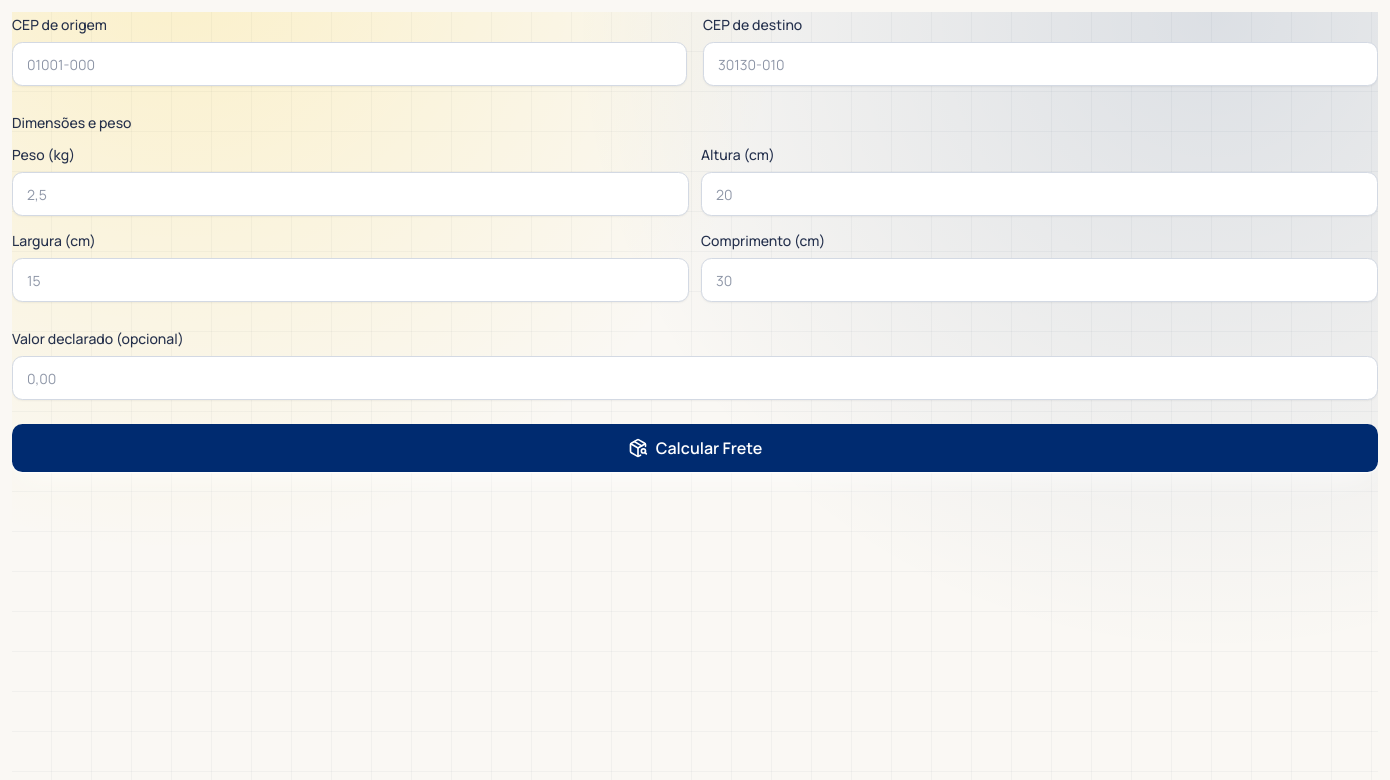
Test: FreightForm › masks the zip code as the user types
In the field labelled "CEP de origem": point(350, 64) [12,42,687,86], type "01001000"
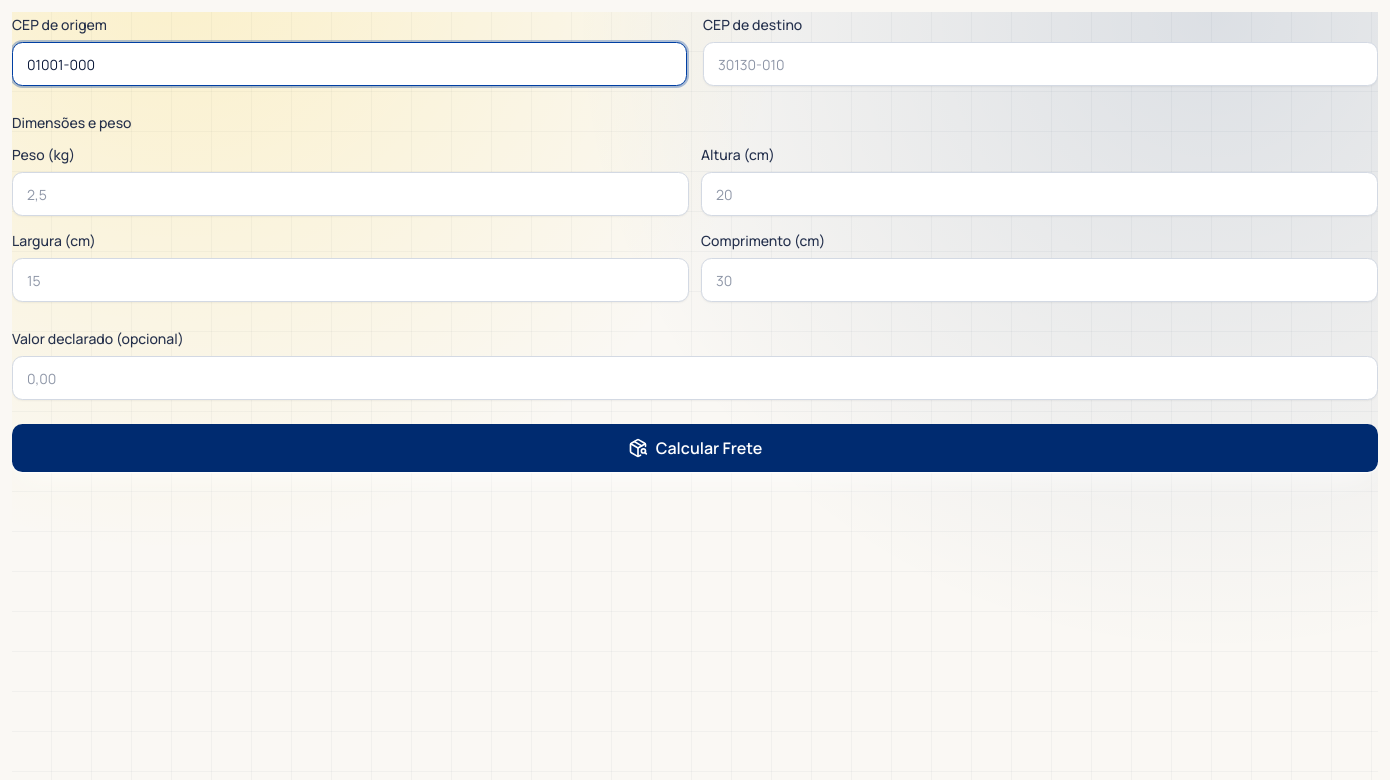
expect the field labelled "CEP de origem" holds "01001-000": met, box [12,42,687,86]
